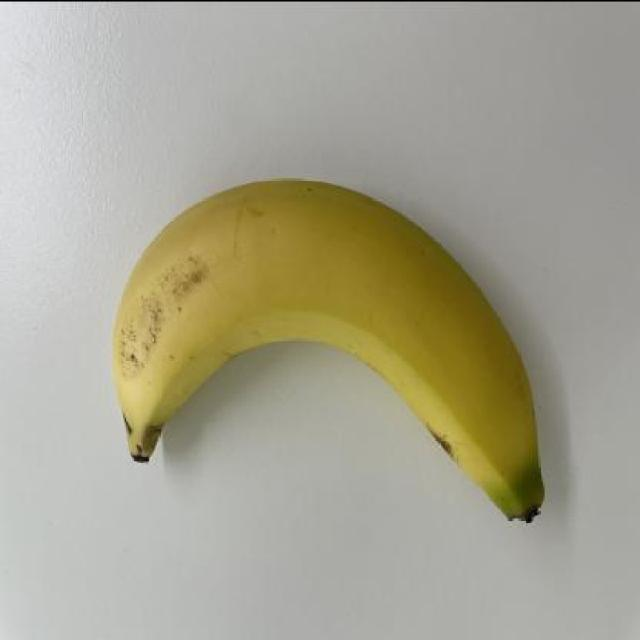Banana: (103, 165, 551, 533)
